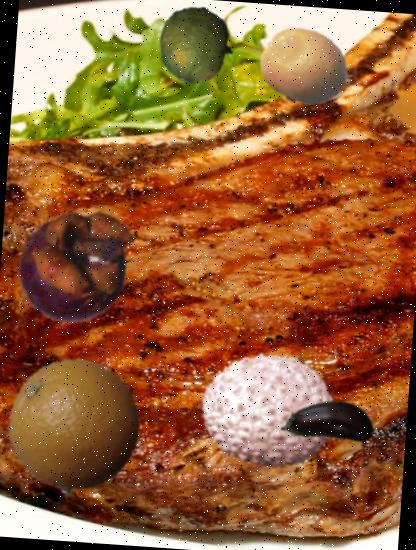Eggplant: (278, 370, 379, 471)
Kumquats: (256, 18, 353, 115)
Limes: (154, 4, 238, 87)
Lychee: (197, 335, 344, 482)
Mangostan: (10, 197, 144, 331)
Orange: (3, 354, 146, 499)
